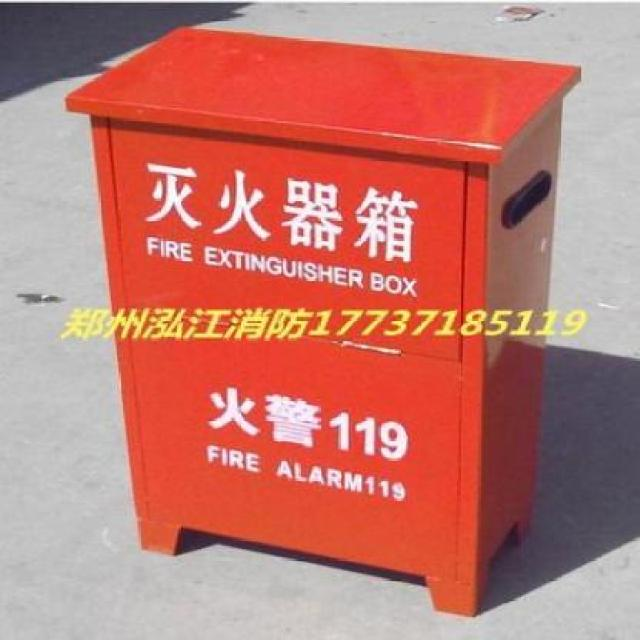firehydrant: (58, 22, 587, 620)
